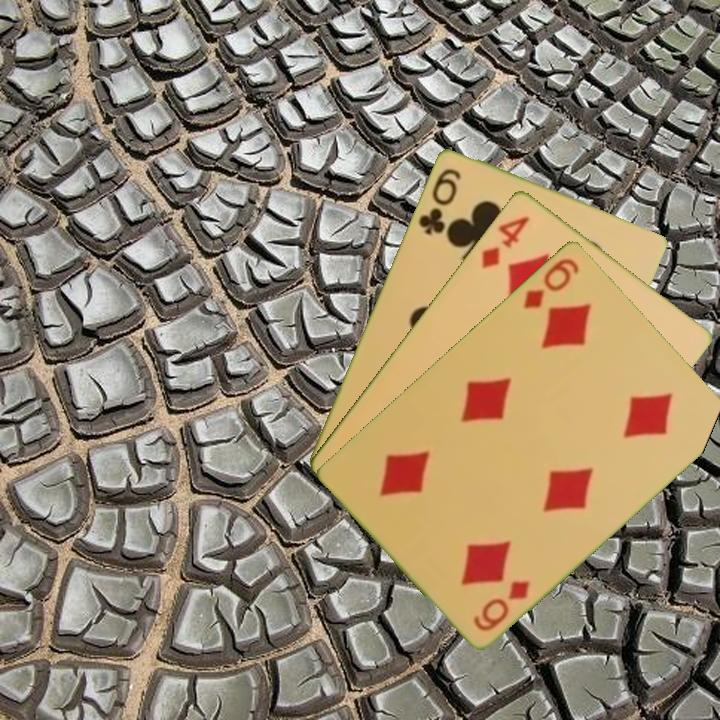4d: (477, 212, 533, 271)
6c: (414, 164, 464, 238)
6d: (469, 576, 533, 634), (520, 253, 582, 312)
